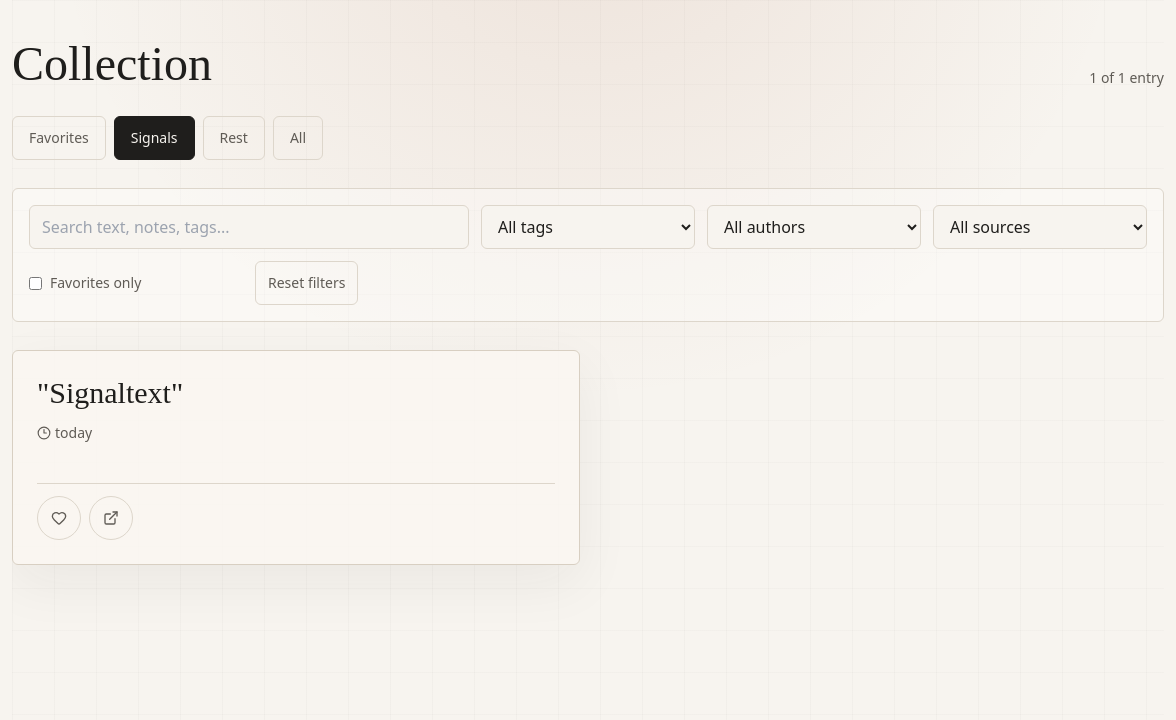
it: LibraryPage › shows its own empty state when there are no favourites
Click the button "Favorites". click: (59, 138)
box: [12, 116, 106, 160]
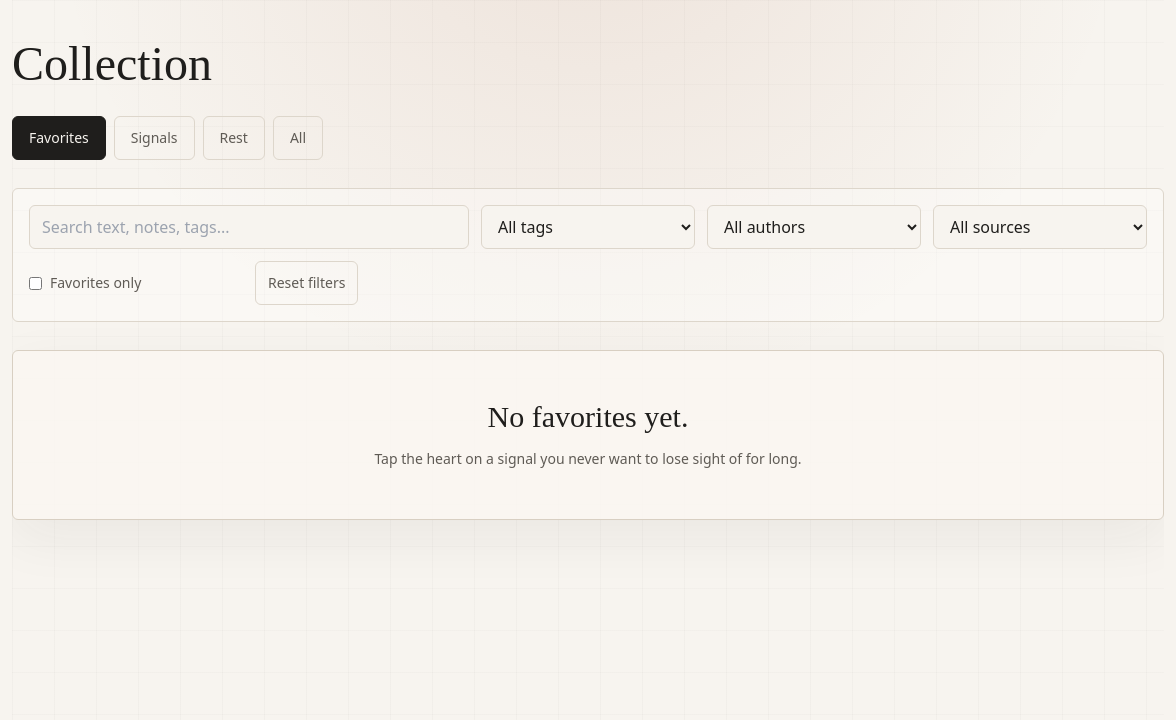
Result: the heading "No favorites yet." is shown at [488, 400, 688, 433]
Result: the text "Tap the heart on a signal you never want to lose sight of for long." is shown at [374, 449, 802, 468]
